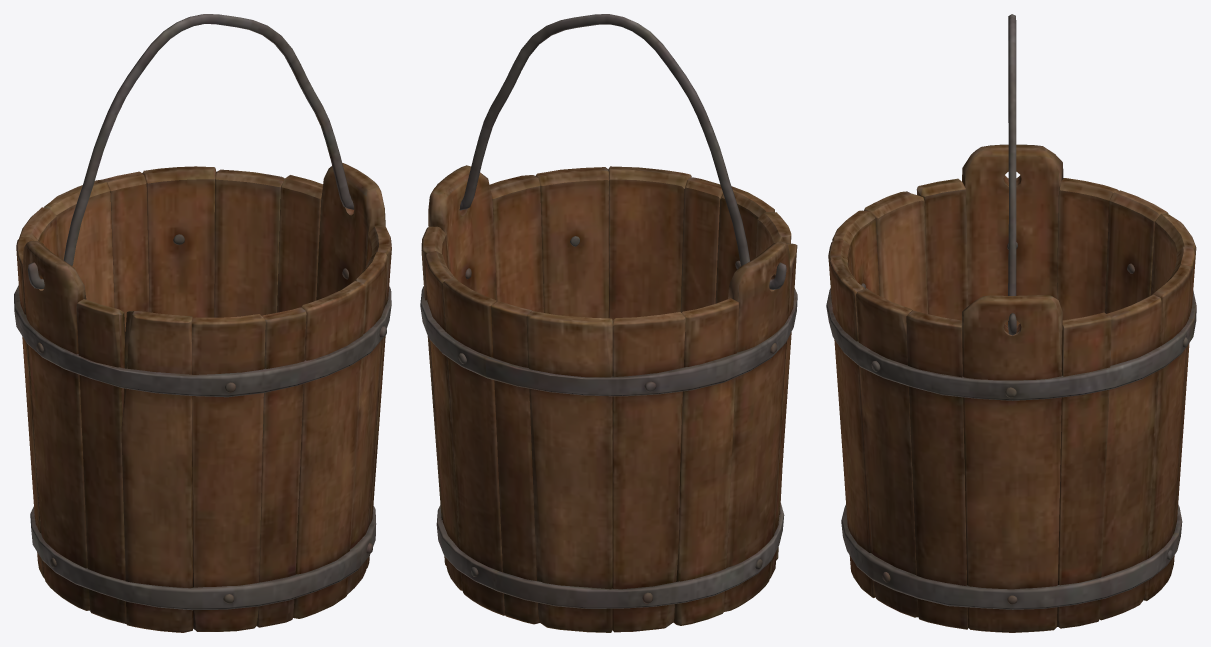
Rendered from wooden_bucket_01.glb.
3 views of the same model, side by side, from view 1: azimuth 30°, elevation 25°; view 2: azimuth 150°, elevation 25°; view 3: azimuth 270°, elevation 25° (orthographic).
Parts seen in each view (by area): view 1: wooden_bucket_01, wooden_bucket_01_handle; view 2: wooden_bucket_01, wooden_bucket_01_handle; view 3: wooden_bucket_01, wooden_bucket_01_handle.
Boxes of the visible parts, x1,y1,x2,y2 form: wooden_bucket_01: (14,163,391,632); wooden_bucket_01_handle: (27,14,354,289); wooden_bucket_01: (420,165,797,632); wooden_bucket_01_handle: (437,14,786,289); wooden_bucket_01: (826,144,1196,632); wooden_bucket_01_handle: (1008,14,1016,335).
Size of the model in its own units: 0.367 by 0.5499 by 0.3422.
Materials: 1 (1 with a texture image).
